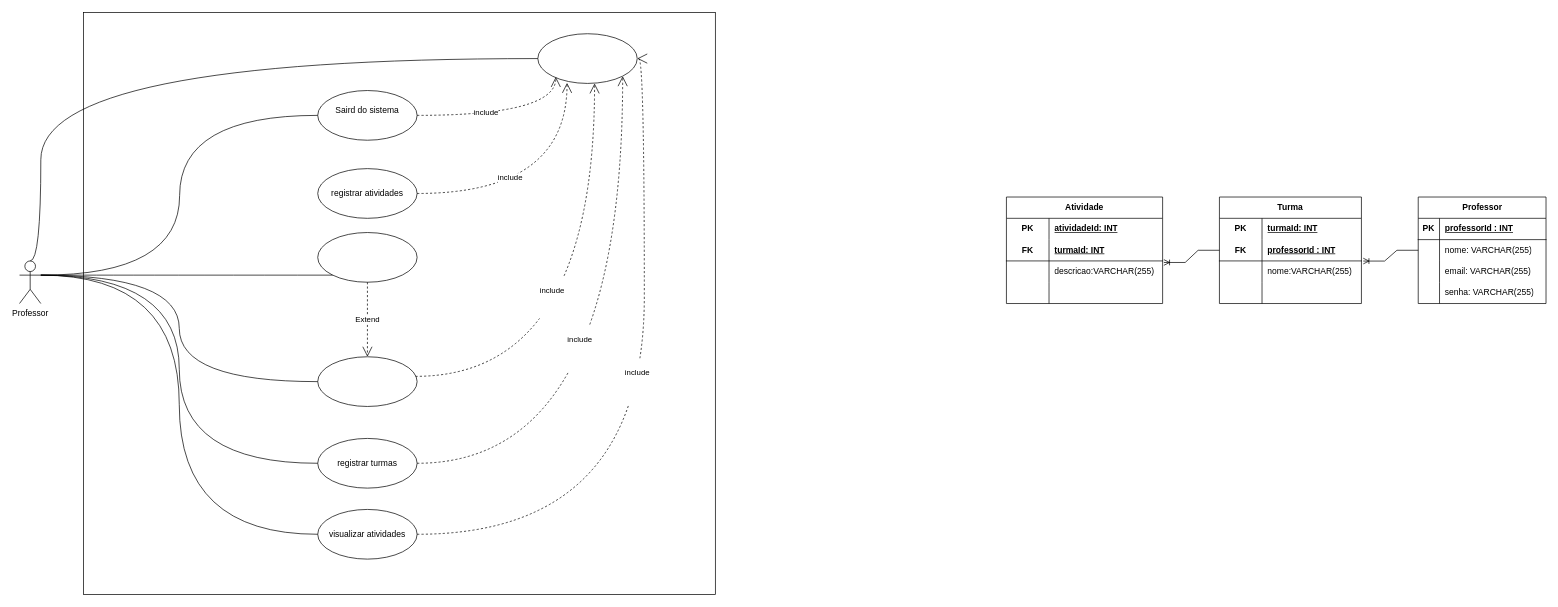
Some shapes in this 1558 by 607 pixel diagram are drawn without their labels. Here are the shapes that lost their labels. From the top down, the centre of each, then its label:
the point at 587,58: Autenticar-se no sistema
the point at 367,257: excluir turmas
the point at 367,381: visualizar turmas
